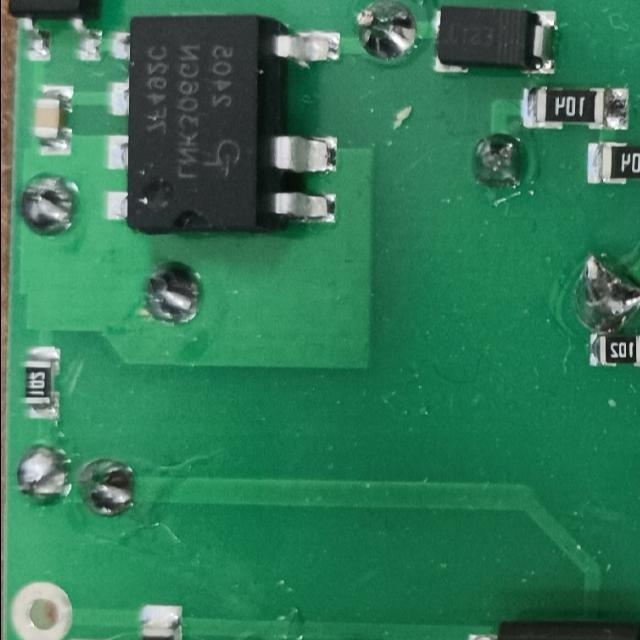chip-capacitor: (31, 83, 74, 157)
chip-resistor: (520, 86, 629, 130), (21, 344, 61, 423), (583, 141, 640, 186), (586, 332, 640, 368)
diode: (430, 5, 557, 76)
ic: (104, 13, 343, 235)
